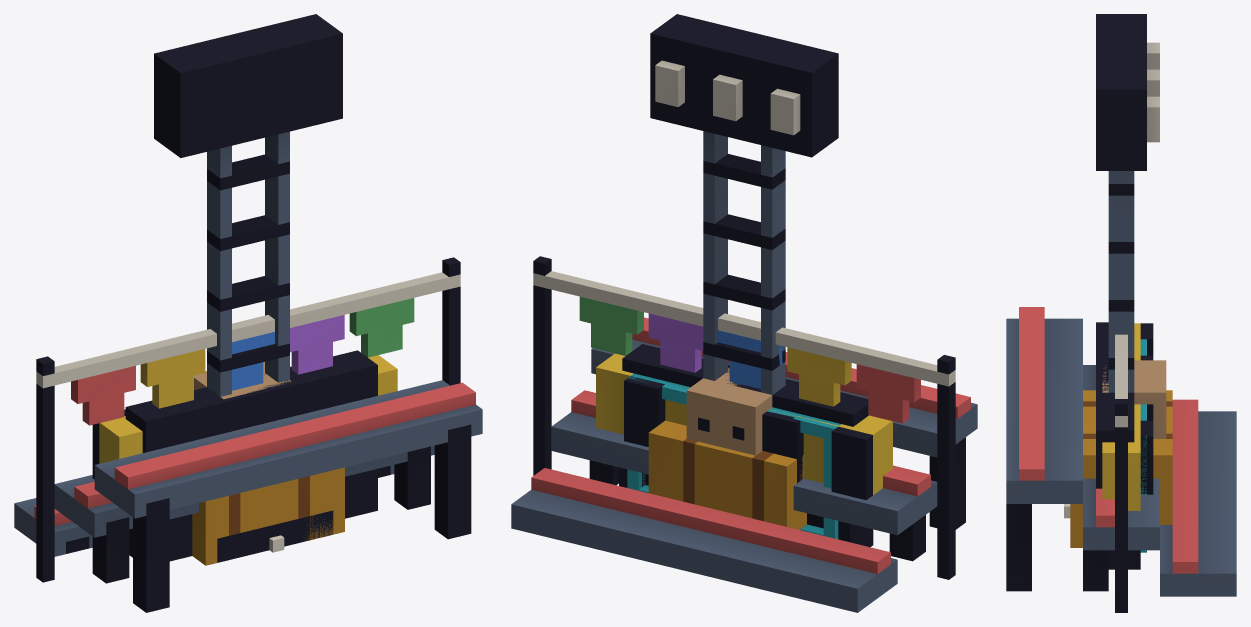
Rendered from arena.glb.
3 renders of one model, left to right at view 1: azimuth 30°, elevation 25°; view 2: azimuth 150°, elevation 25°; view 3: azimuth 270°, elevation 25°, orthographic. The views are drawn at different scales.
Visible parts, largest first — view 1: arena_bleacher_body, arena_spotlight_body, arena_bunting_body, arena_neon_sign_body, arena_hay_body, arena_barrier_body, arena_spectator_body; view 2: arena_bleacher_body, arena_spotlight_body, arena_bunting_body, arena_barrier_body, arena_hay_body, arena_neon_sign_body, arena_spectator_body, arena_spotlight_lamps; view 3: arena_bleacher_body, arena_spotlight_body, arena_barrier_body, arena_bunting_body, arena_hay_body, arena_neon_sign_body, arena_spectator_body, arena_spotlight_lamps.
Part boxes in pixels (x1,y1,x2,y2): arena_bleacher_body: [14, 380, 482, 612]; arena_spotlight_body: [154, 14, 342, 562]; arena_bunting_body: [36, 257, 460, 582]; arena_neon_sign_body: [125, 350, 377, 561]; arena_hay_body: [192, 467, 344, 565]; arena_barrier_body: [92, 355, 397, 557]; arena_spectator_body: [194, 362, 290, 399]; arena_bleacher_body: [511, 317, 977, 612]; arena_spotlight_body: [650, 14, 838, 394]; arena_bunting_body: [533, 256, 955, 579]; arena_barrier_body: [596, 353, 892, 546]; arena_hay_body: [648, 420, 806, 529]; arena_neon_sign_body: [622, 344, 873, 547]; arena_spectator_body: [686, 368, 772, 455]; arena_spotlight_lamps: [655, 60, 800, 135]; arena_bleacher_body: [1006, 307, 1236, 596]; arena_spotlight_body: [1096, 14, 1146, 392]; arena_barrier_body: [1102, 323, 1153, 569]; arena_bunting_body: [1115, 334, 1127, 612]; arena_hay_body: [1070, 390, 1172, 547]; arena_neon_sign_body: [1096, 322, 1146, 569]; arena_spectator_body: [1102, 360, 1166, 438]; arena_spotlight_lamps: [1147, 42, 1159, 142].
Bounding box in the file's own units: 3 × 3.33 × 1.5.
